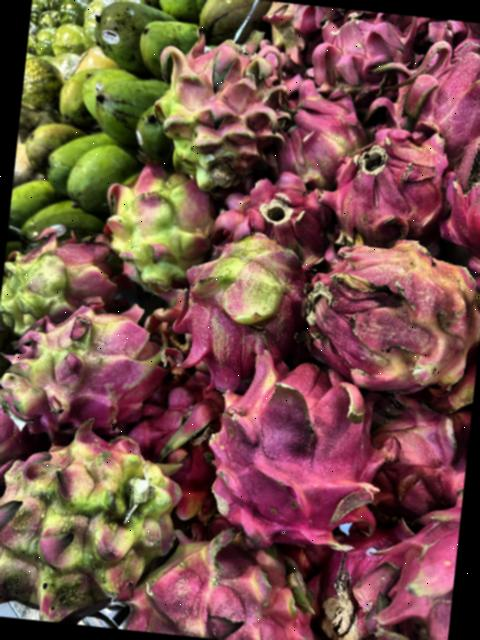buah-naga-belum-matang: (0, 431, 187, 619), (294, 233, 480, 399), (146, 20, 298, 190), (0, 302, 177, 444), (168, 228, 313, 386), (141, 523, 325, 640), (92, 157, 222, 297), (0, 220, 128, 325), (267, 79, 368, 179)
buah-naga-matang: (204, 342, 393, 558), (324, 128, 453, 248), (365, 394, 472, 519), (364, 504, 460, 640), (385, 27, 480, 153), (214, 170, 334, 262), (305, 9, 415, 102), (0, 390, 49, 502), (444, 133, 480, 280)
